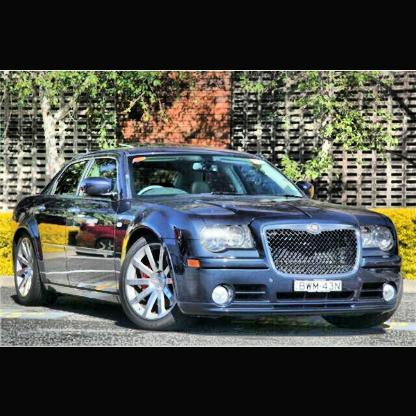Chrysler 300 SRT-8 2010: (13, 144, 406, 333)
